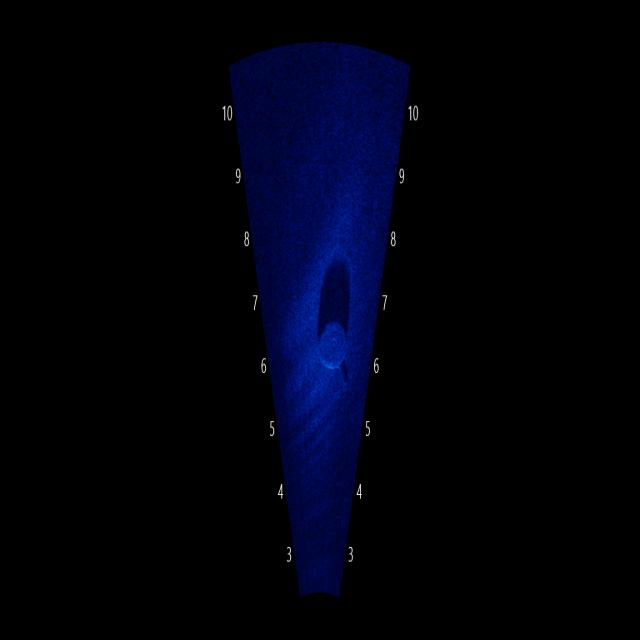circle: (302, 287, 361, 410)
